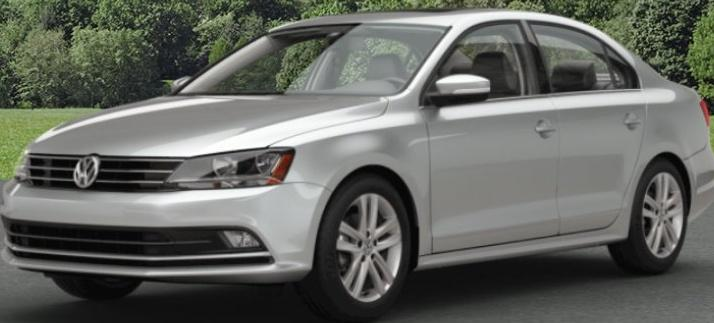Cars: (1, 11, 714, 320)
